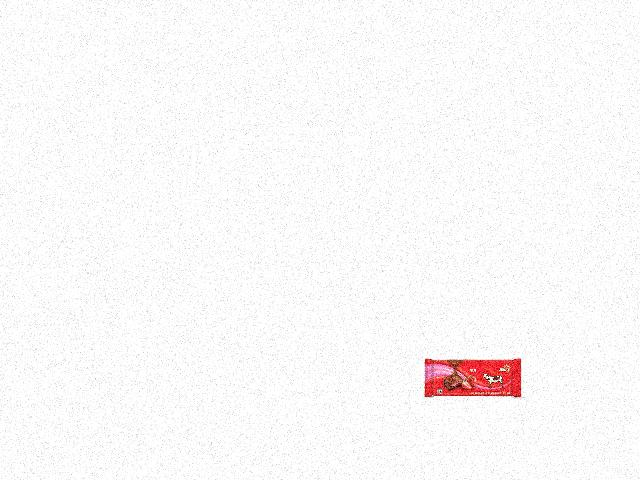chocolate: (424, 359, 528, 404)
